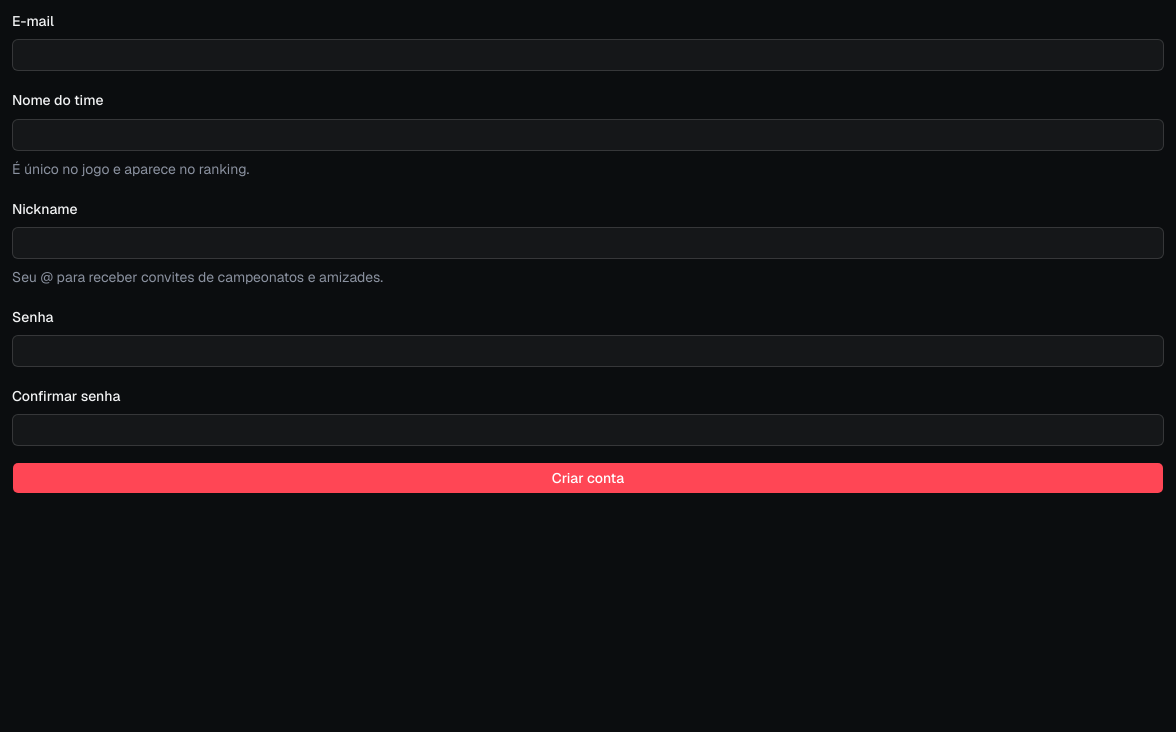
Scenario: SignUpForm › mostra erro quando as senhas não coincidem
Type "joao@example.com" into the field labelled "E-mail" at {"x": 588, "y": 55}, box x1=12 y1=39 x2=1164 y2=71
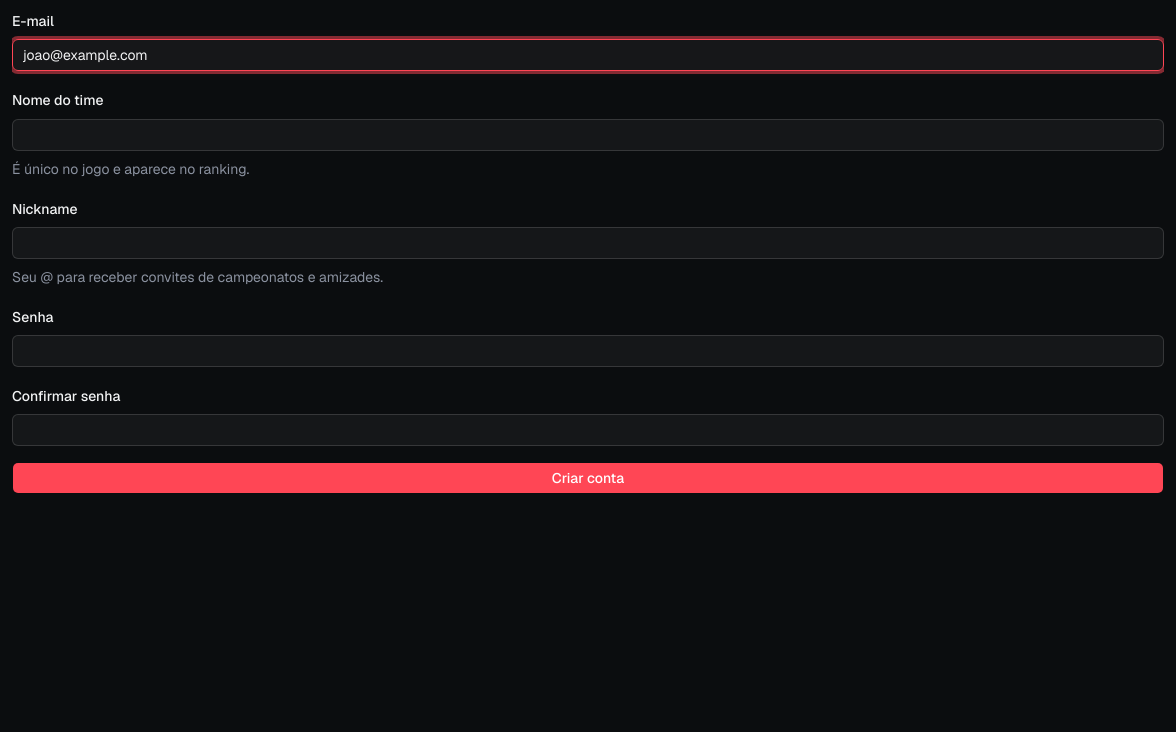
Type "Sentinels BR" into the field labelled "Nome do time" at {"x": 588, "y": 134}, box x1=12 y1=118 x2=1164 y2=150
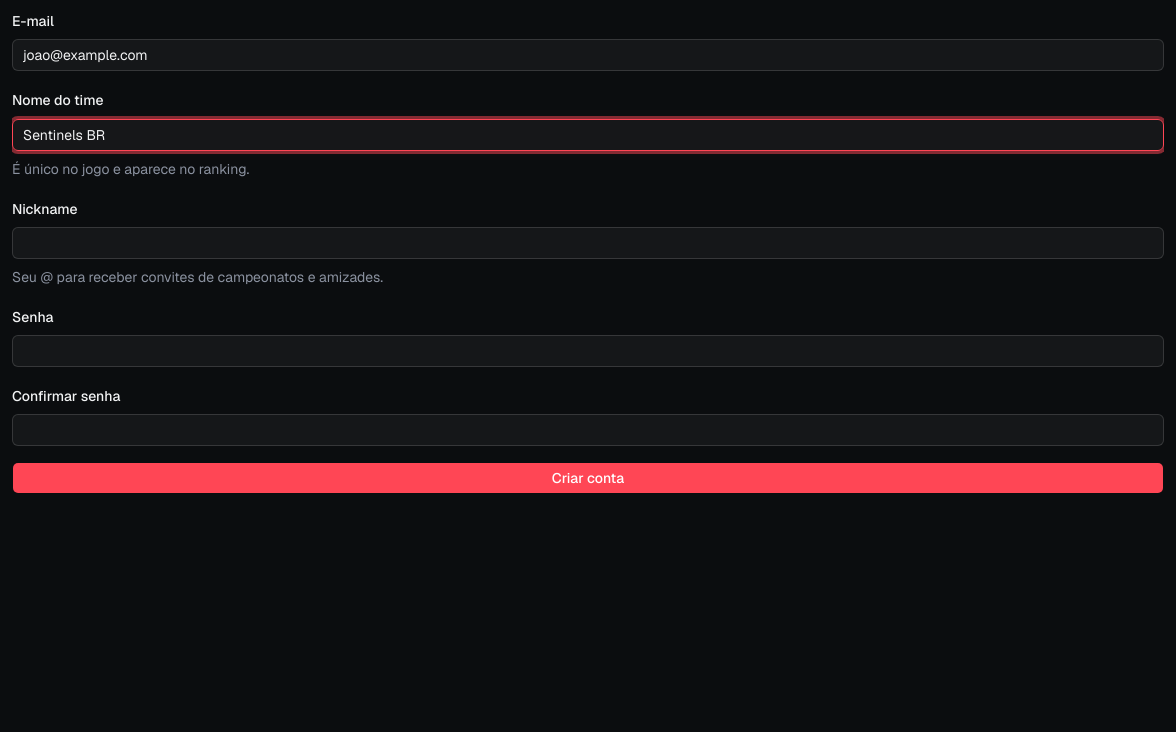
Type "joaosilva" into the field labelled "Nickname" at {"x": 588, "y": 243}, box x1=12 y1=227 x2=1164 y2=259
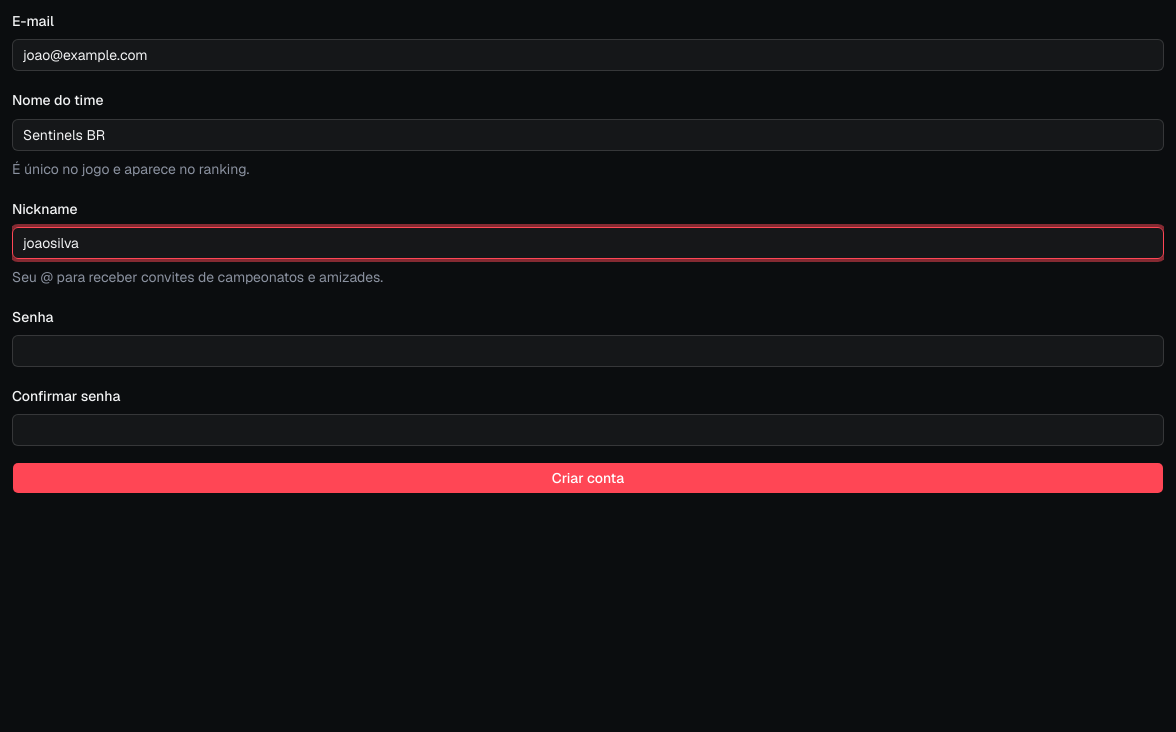
Type "senha1234" into the password field labelled "Senha" at {"x": 588, "y": 351}, box x1=12 y1=335 x2=1164 y2=367
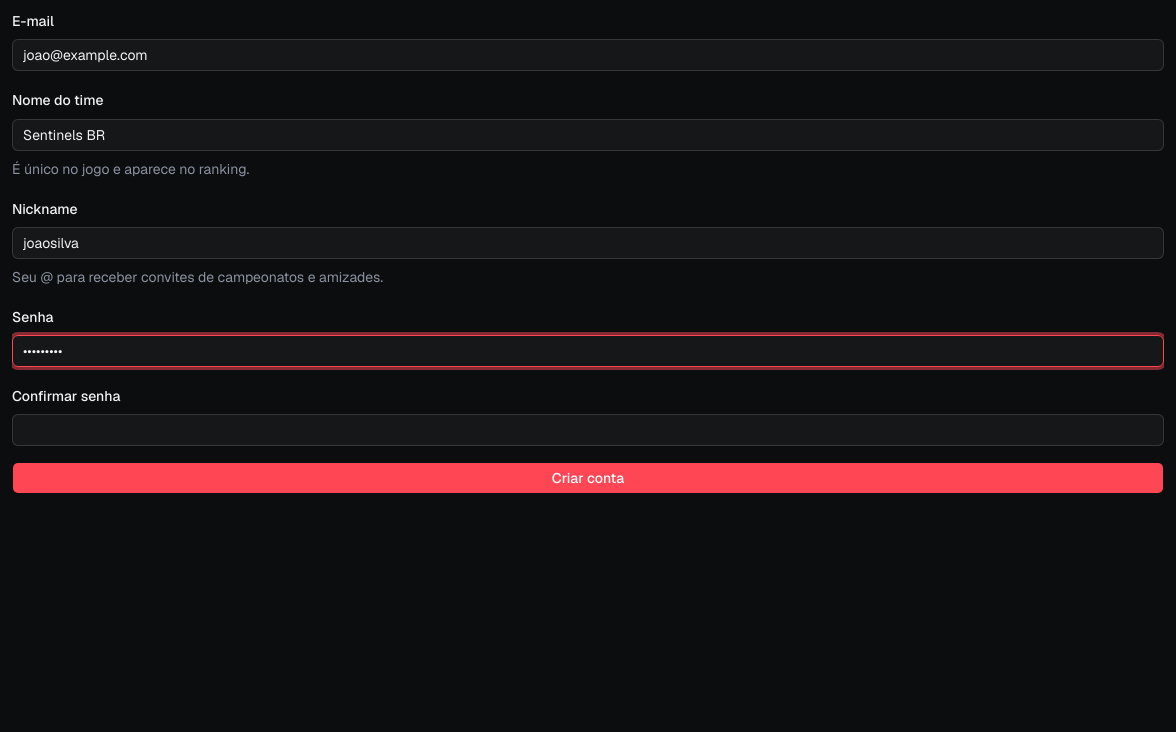
Type "senha-diferente" into the password field labelled "Confirmar senha" at {"x": 588, "y": 430}, box x1=12 y1=414 x2=1164 y2=446
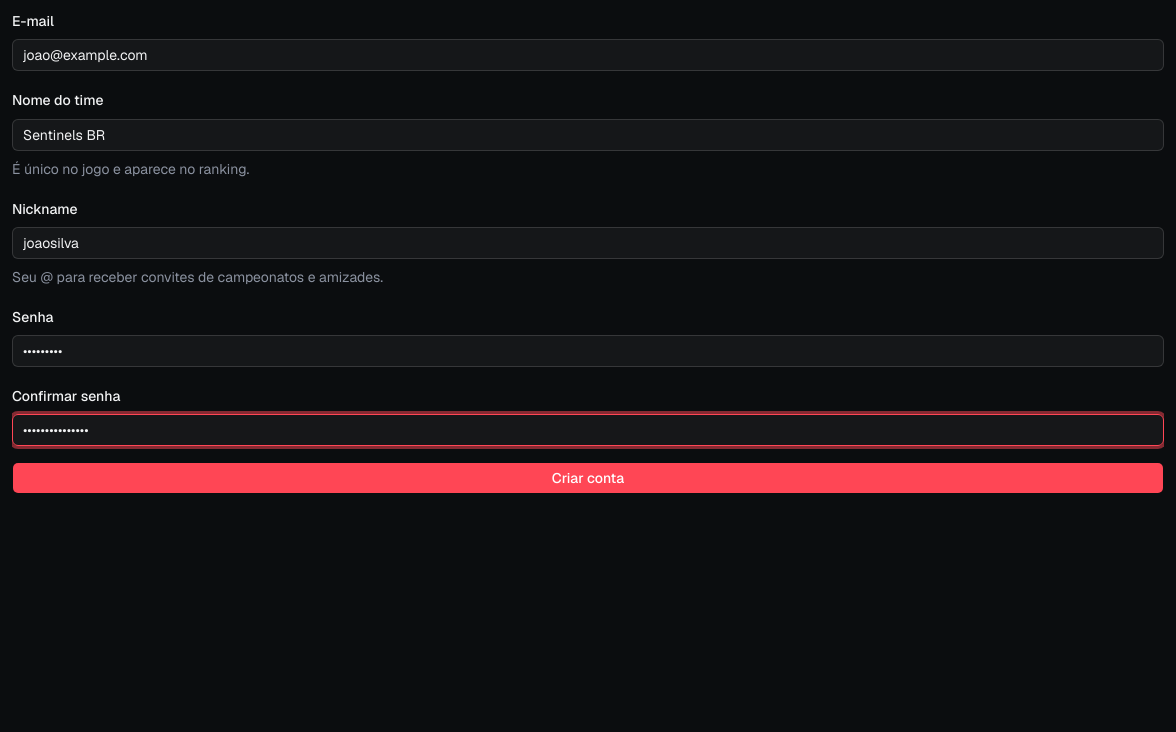
Click the button "Criar conta" at {"x": 588, "y": 478}, box x1=12 y1=462 x2=1164 y2=494
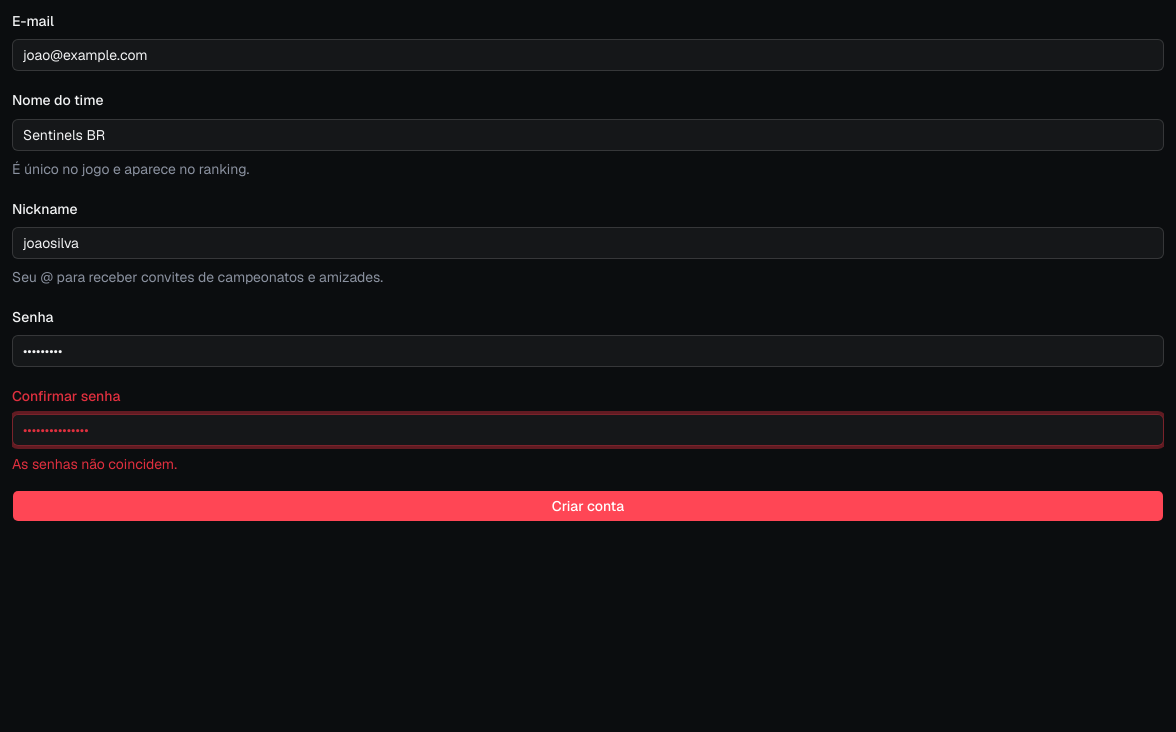
Now the text "As senhas não coincidem." is shown, box x1=12 y1=455 x2=177 y2=473
